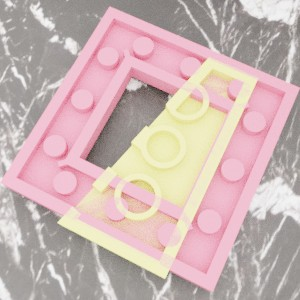lego: (0, 6, 300, 291), (57, 56, 258, 278)
